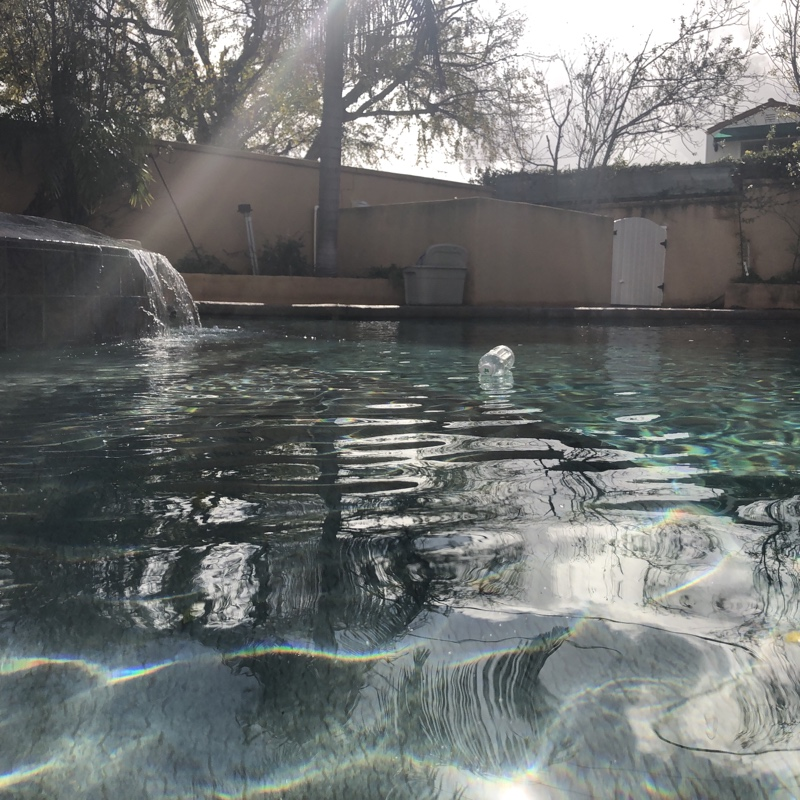Plastic Bottle: (474, 345, 517, 384)
